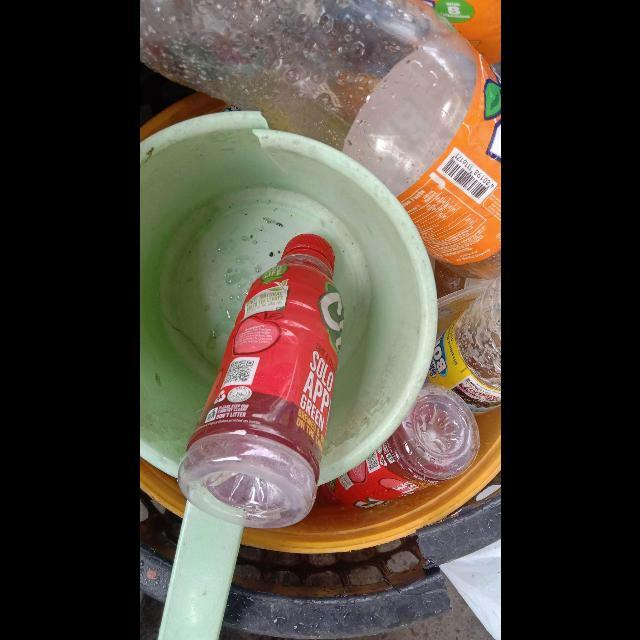plastic_bottle: (139, 0, 501, 281), (176, 233, 344, 532), (321, 382, 481, 507), (428, 272, 501, 411)
